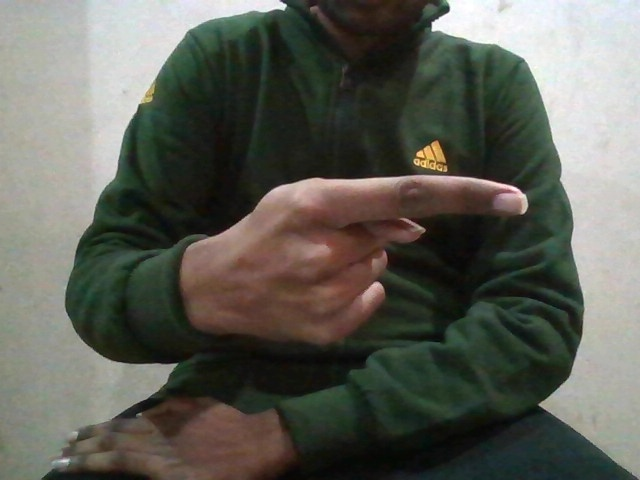G: (195, 176, 530, 343)
